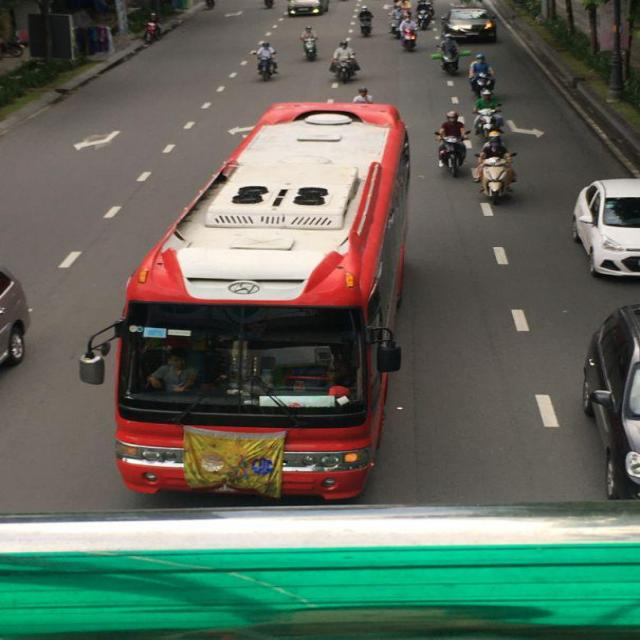bus: (102, 90, 418, 525)
car: (579, 302, 640, 498), (572, 178, 639, 280), (446, 8, 498, 43), (287, 0, 327, 17)
motorcycle: (475, 154, 518, 206), (439, 139, 468, 178), (330, 58, 360, 86), (442, 35, 462, 75), (400, 20, 418, 51), (145, 18, 162, 43)
